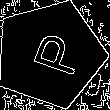P_W: (19, 28, 81, 81)
